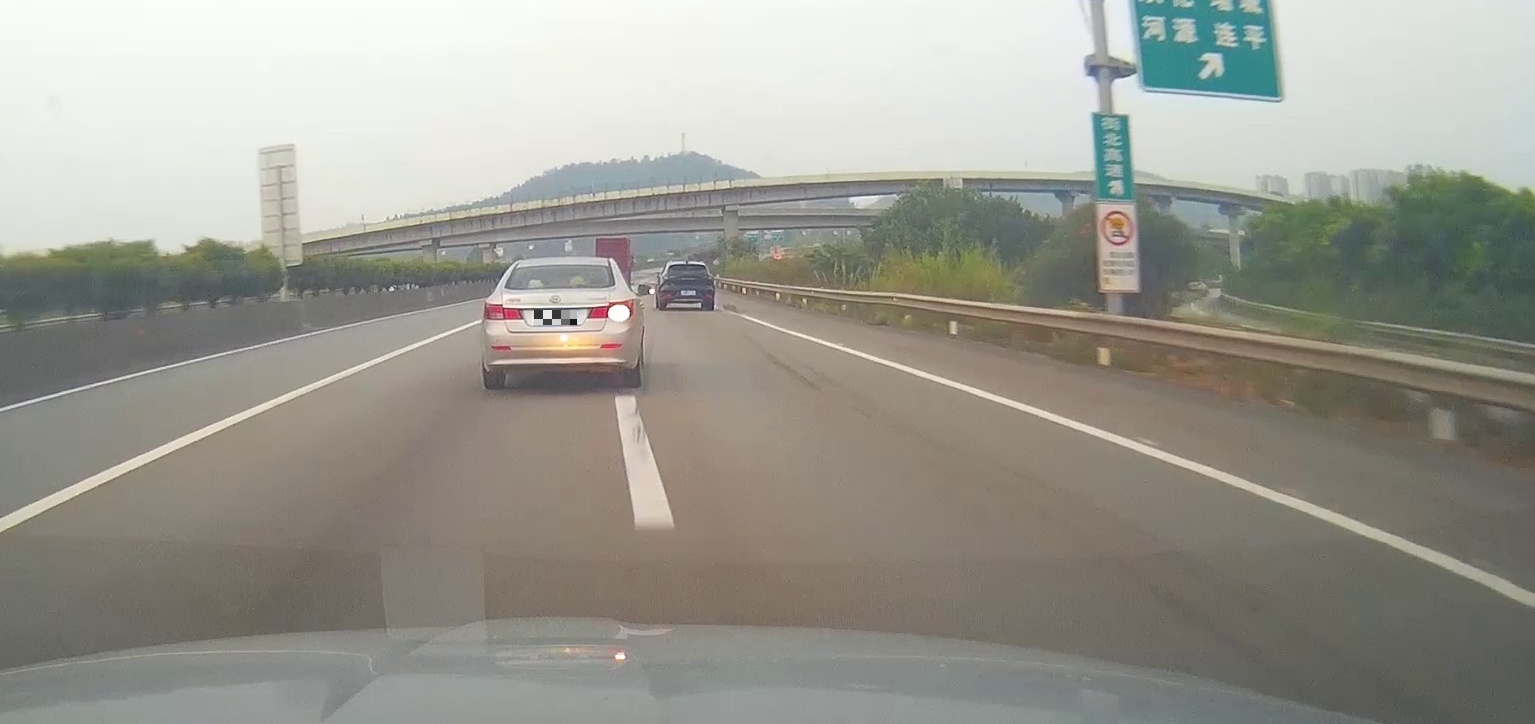L_light: (483, 302, 523, 320), (661, 275, 675, 280)
R_light: (587, 299, 635, 319), (700, 276, 713, 281)
T_light: (551, 264, 572, 268), (682, 265, 692, 268)
day-no: (656, 261, 715, 311)
day-right: (481, 256, 642, 391)
plate_1: (534, 310, 577, 325)
